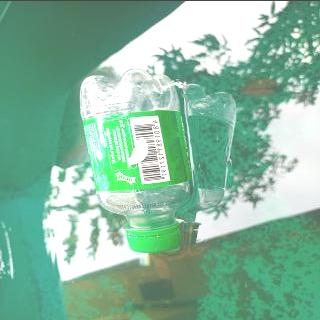bottle: (76, 66, 196, 254)
